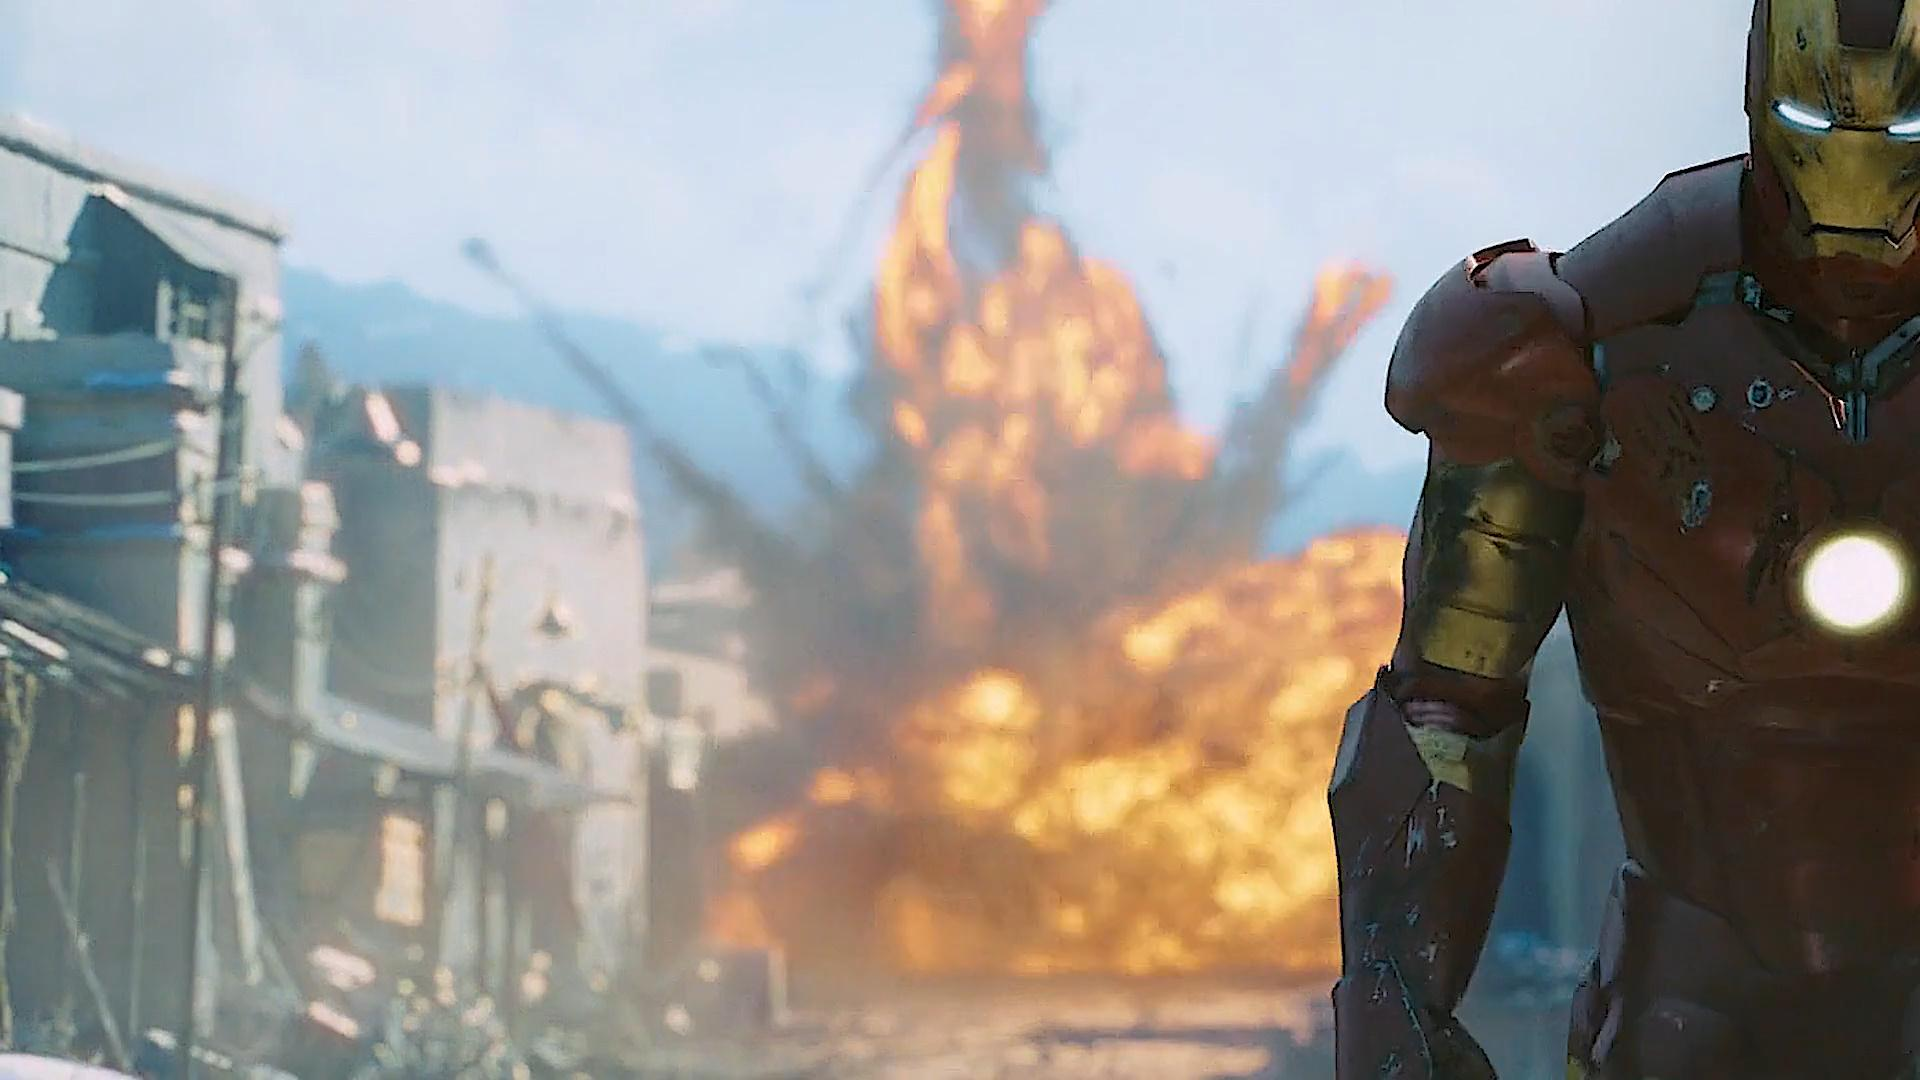fire: (617, 0, 1480, 1000)
